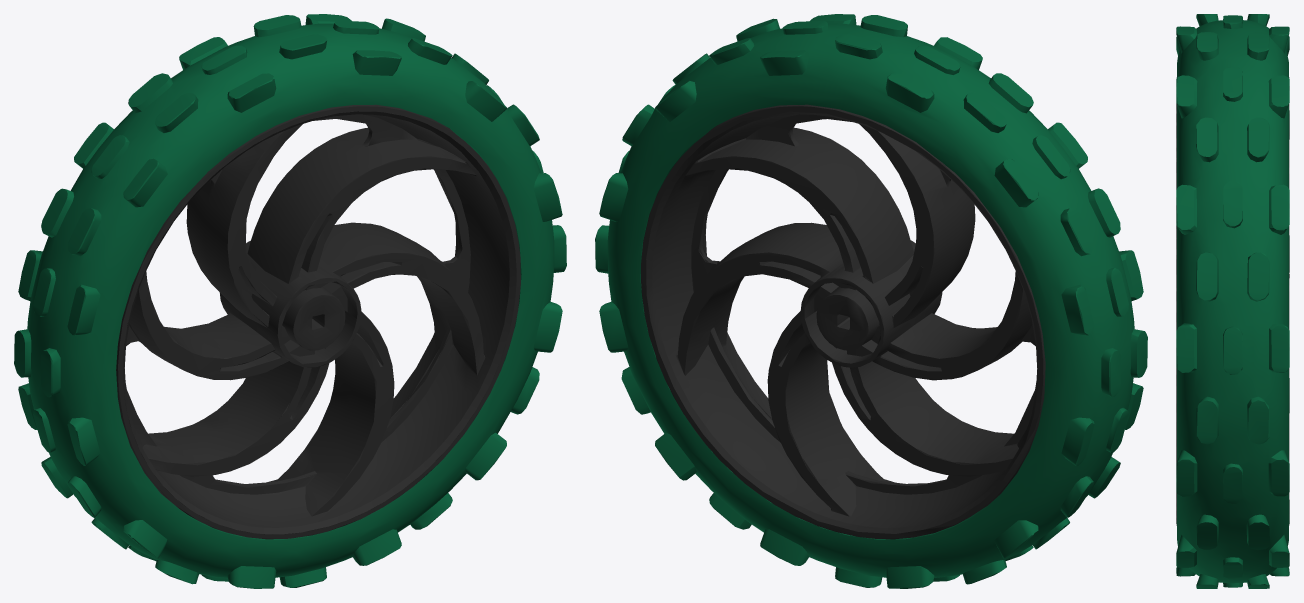
File: 5_Wheel.glb
3 renders of one model, left to right at view 1: azimuth 30°, elevation 25°; view 2: azimuth 150°, elevation 25°; view 3: azimuth 270°, elevation 25°, orthographic. The views are drawn at different scales.
Parts seen in each view (by area): view 1: 5 Wheel; view 2: 5 Wheel; view 3: 5 Wheel.
Boxes of the visible parts, <box> form: 5 Wheel: <box>14,14,566,588</box>; 5 Wheel: <box>595,14,1147,588</box>; 5 Wheel: <box>1176,14,1289,588</box>.
Size of the model in its own units: 5.09 by 5.09 by 1.01.
